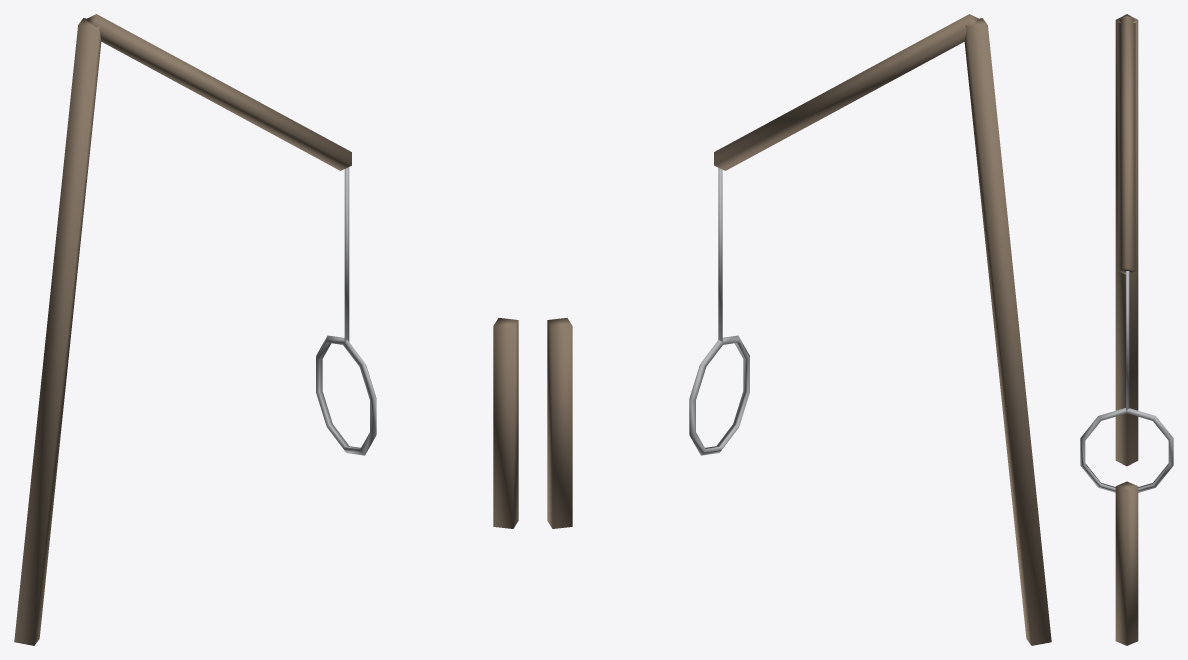
The model's file is snare.glb.
3 renders of one model, left to right at view 1: azimuth 30°, elevation 25°; view 2: azimuth 150°, elevation 25°; view 3: azimuth 270°, elevation 25°, orthographic. The views are drawn at different scales.
Visible parts, largest first — view 1: snare; view 2: snare; view 3: snare.
Part boxes in pixels (box(x1,y1,x2,y2)): snare: box(14, 14, 518, 645); snare: box(547, 14, 1051, 645); snare: box(1080, 14, 1173, 645).
Size of the model in its own units: 0.7899 by 0.9142 by 0.1636.
